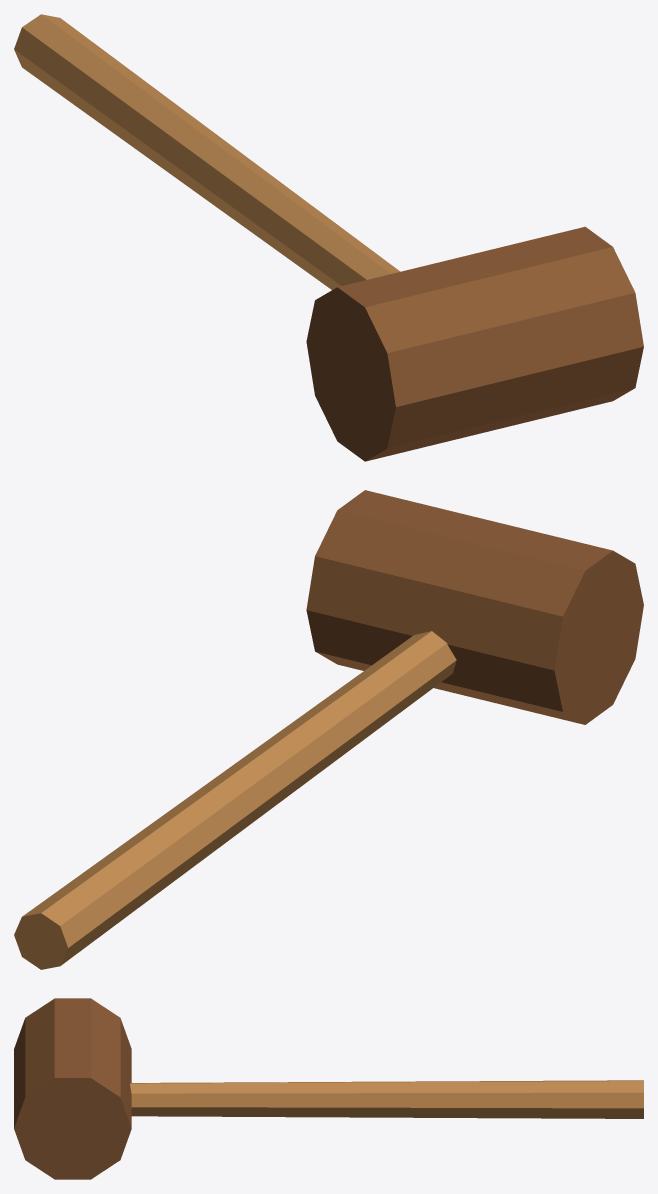
The model's file is fair_mallet.glb.
3 views of the same model, one above another, from view 1: azimuth 30°, elevation 25°; view 2: azimuth 150°, elevation 25°; view 3: azimuth 270°, elevation 25° (orthographic). The views are drawn at different scales.
Visible parts, largest first — view 1: head_mallet_head, handle_mallet_wood; view 2: head_mallet_head, handle_mallet_wood; view 3: handle_mallet_wood, head_mallet_head.
Part boxes in pixels (x1,y1,x2,y2): head_mallet_head: [306, 226, 643, 461]; handle_mallet_wood: [14, 14, 400, 289]; head_mallet_head: [306, 490, 643, 724]; handle_mallet_wood: [14, 631, 456, 969]; handle_mallet_wood: [130, 1080, 643, 1118]; head_mallet_head: [14, 998, 131, 1179].
Size of the model in its own units: 0.32 by 0.1902 by 1.07.
